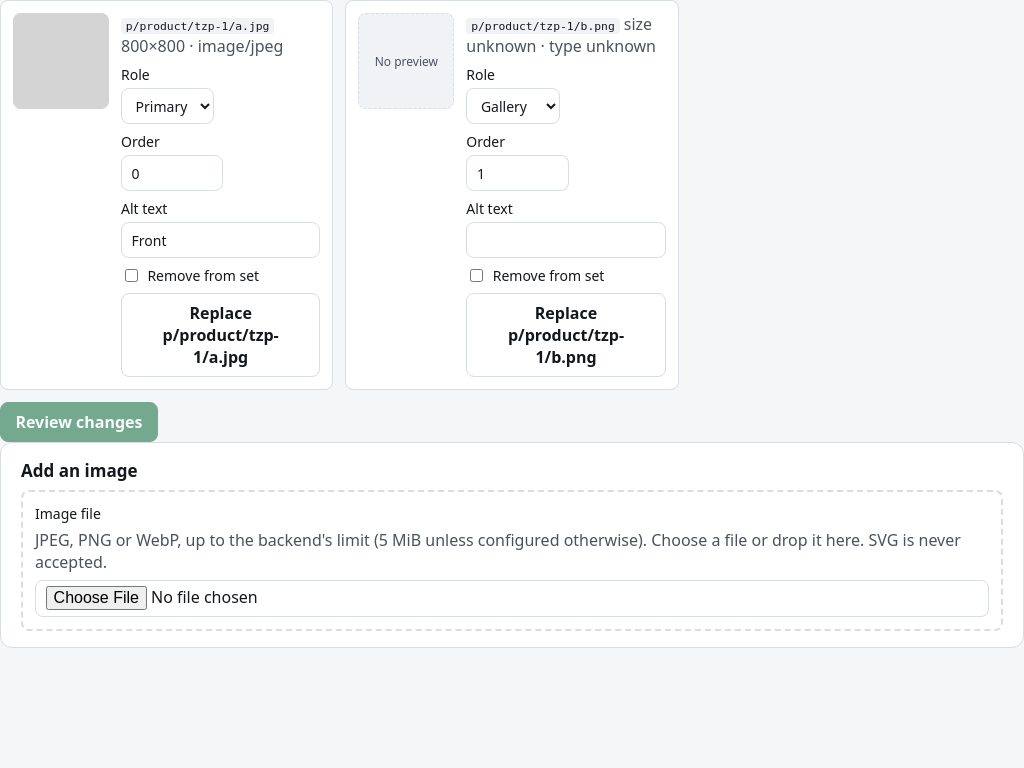
it: MediaSetEditor: metadata › any other failure keeps the dialog open and says why (never closes silently)
This screenshot has width=1024, height=768.
Type "Side view" into the field labelled "Alt text" below "type unknown" at [566, 240], box [466,222,666,258]
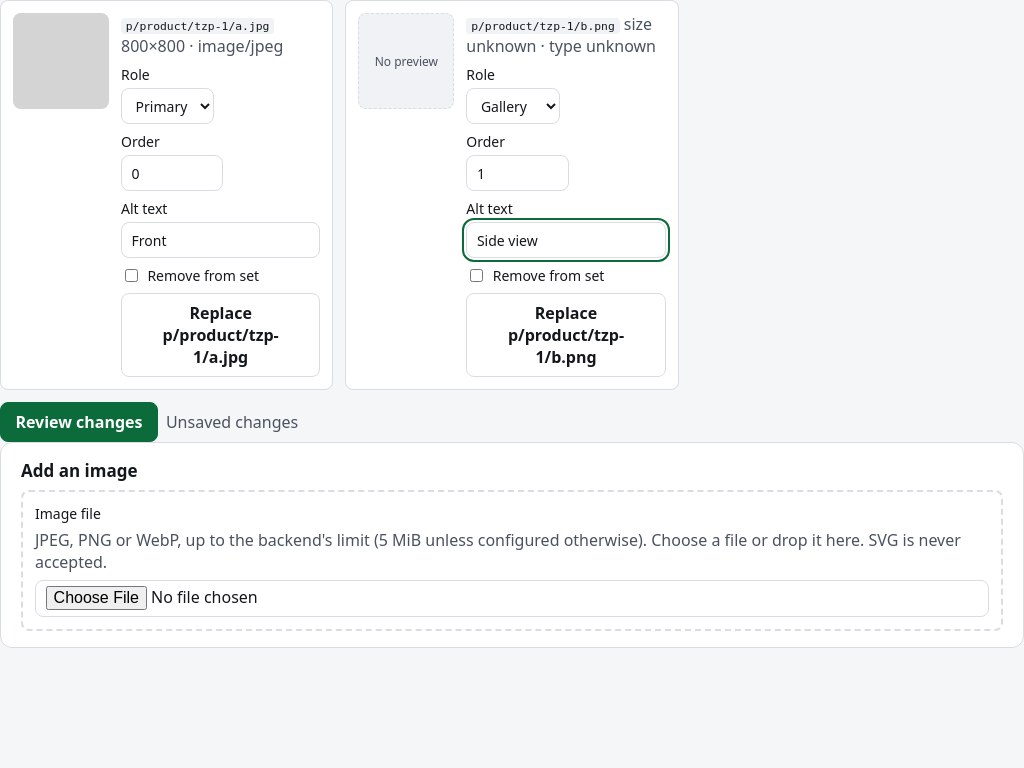
Click the button "Review changes" at [79, 422], box [0,402,158,442]
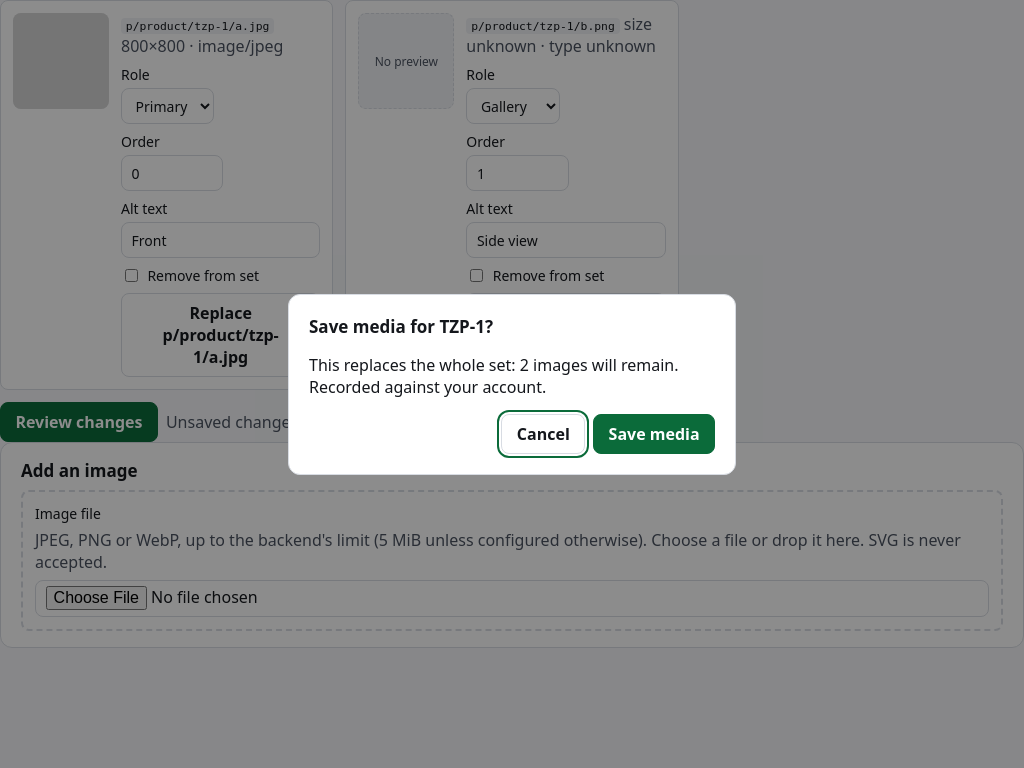
Click the button "Save media" at [654, 434], box [593,414,715,454]
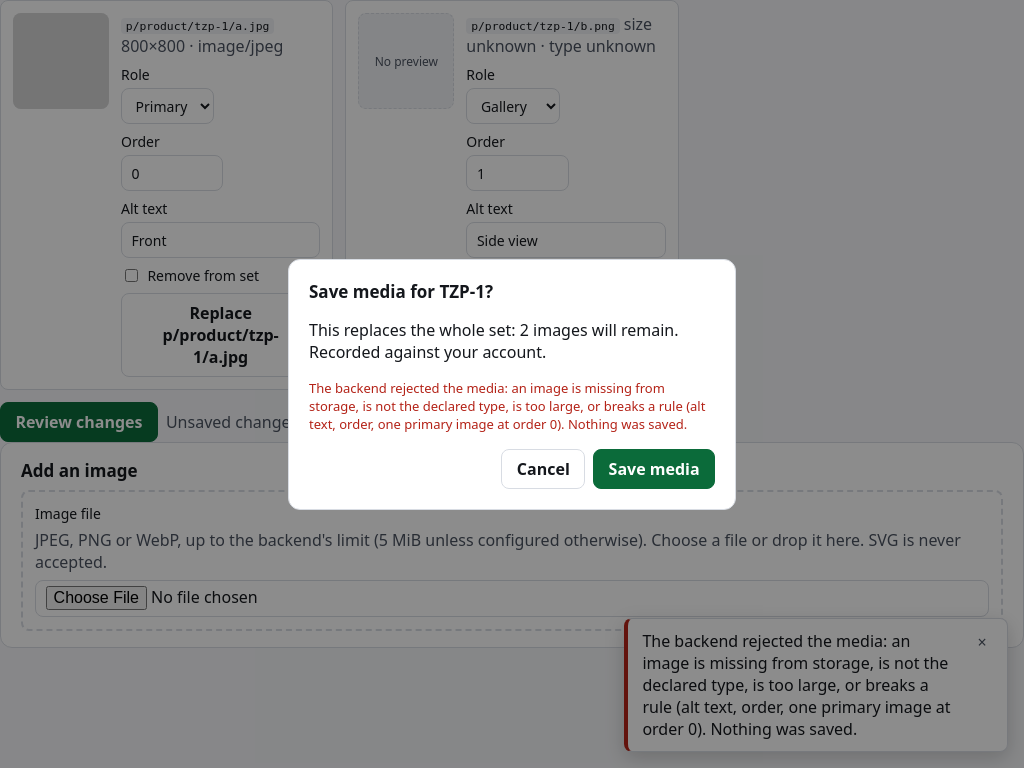
Check: the text "missing from storage" is shown, box [309,378,705,432]
